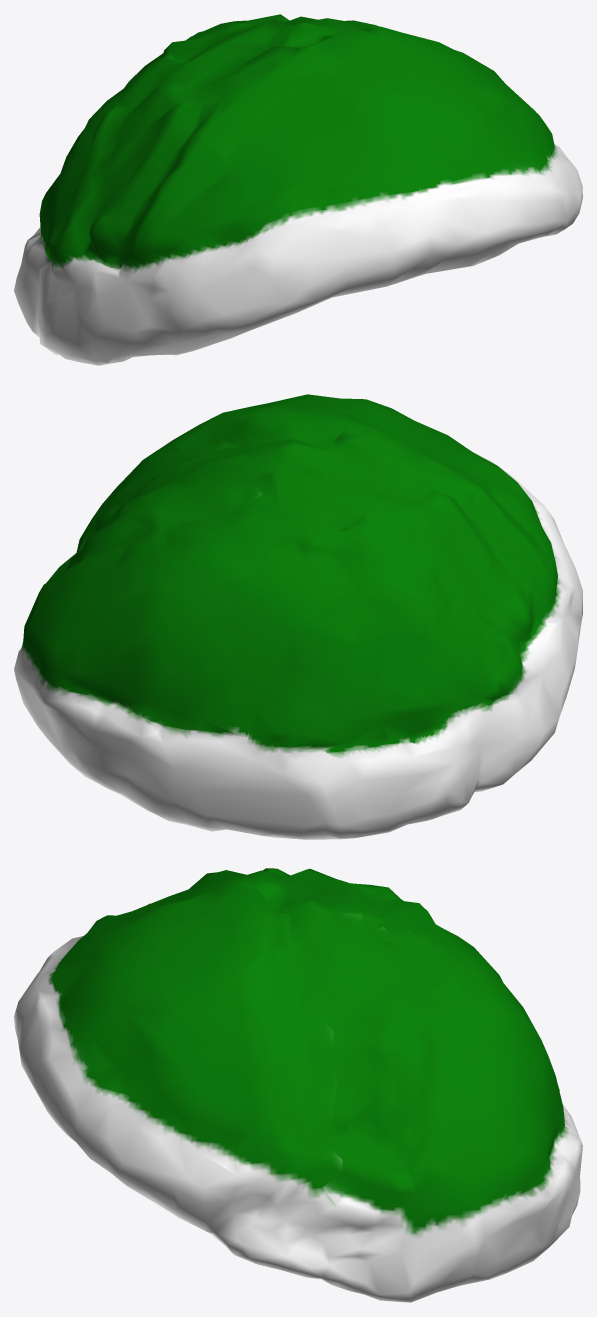
File: knit new york.glb
The picture shows the model from 3 angles, top to bottom: view 1: azimuth 30°, elevation 25°; view 2: azimuth 150°, elevation 25°; view 3: azimuth 270°, elevation 25°; orthographic projection. The views are drawn at different scales.
Parts seen in each view (by area): view 1: hat_knit_new_york.001; view 2: hat_knit_new_york.001; view 3: hat_knit_new_york.001.
Boxes of the visible parts, x1,y1,x2,y2 form: hat_knit_new_york.001: [14, 14, 582, 365]; hat_knit_new_york.001: [14, 394, 582, 839]; hat_knit_new_york.001: [14, 868, 582, 1302].
Bounding box in the file's own units: 0.3698 × 0.2286 × 0.3548.
Materials: 1 (1 with a texture image).
